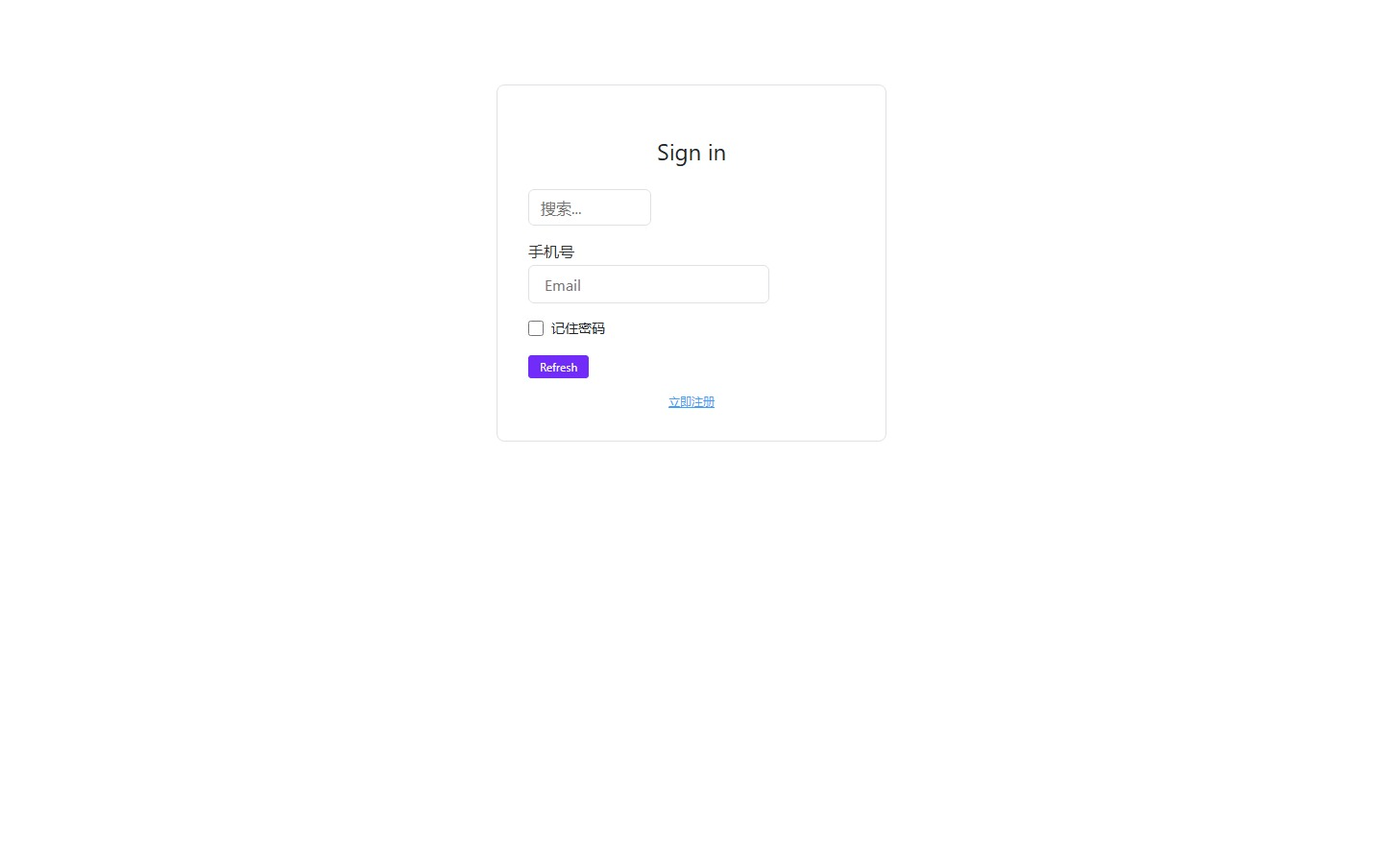button: (528, 355, 589, 378)
checkbox: (528, 320, 544, 336)
icon: (551, 319, 605, 337)
input: (528, 265, 769, 304), (528, 189, 651, 226)
link: (668, 393, 715, 409)
radio: (528, 319, 605, 337)
